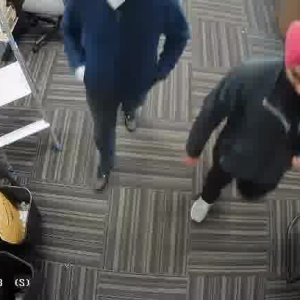person: (60, 0, 174, 198), (196, 43, 300, 215)
